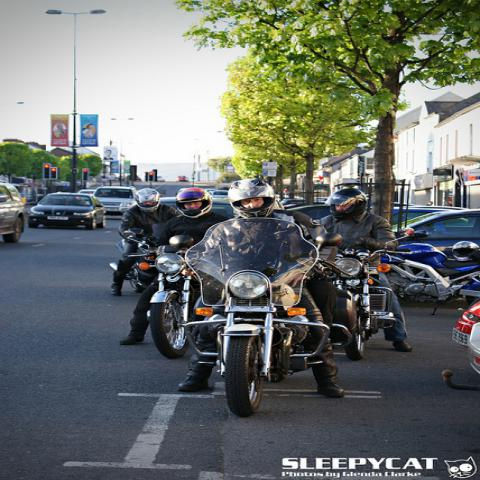car: (392, 208, 479, 247), (28, 192, 106, 230), (0, 184, 32, 241), (451, 295, 479, 346), (92, 186, 138, 214), (287, 204, 333, 220), (282, 196, 330, 209), (209, 188, 228, 198)
motorcycle: (183, 216, 336, 421), (317, 225, 439, 357), (120, 229, 203, 361), (386, 242, 479, 316), (105, 253, 145, 289)
